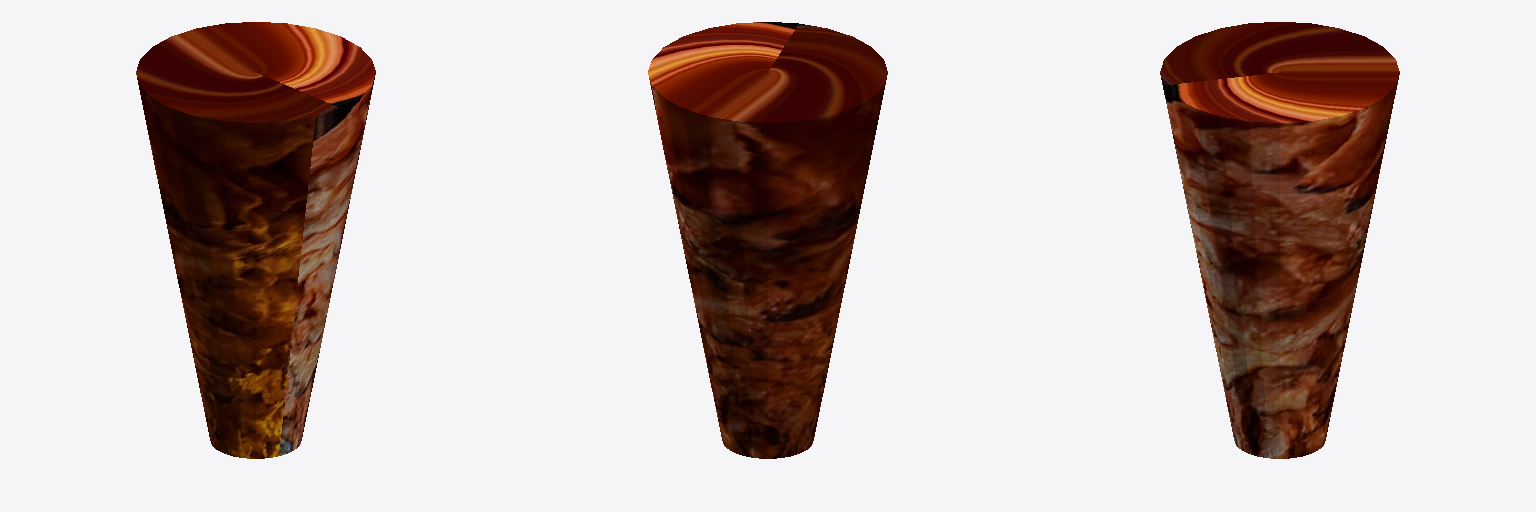
3 views of the same model, side by side, from view 1: azimuth 30°, elevation 25°; view 2: azimuth 150°, elevation 25°; view 3: azimuth 270°, elevation 25° (orthographic).
Visible parts, largest first — view 1: Cone002; view 2: Cone002; view 3: Cone002.
Part boxes in pixels (left/top/right/bottom): Cone002: left=136, top=22, right=375, bottom=458; Cone002: left=648, top=22, right=887, bottom=458; Cone002: left=1160, top=22, right=1399, bottom=458.
Size of the model in its own units: 9.99 by 16.85 by 9.98.
1 materials, 1 textured.